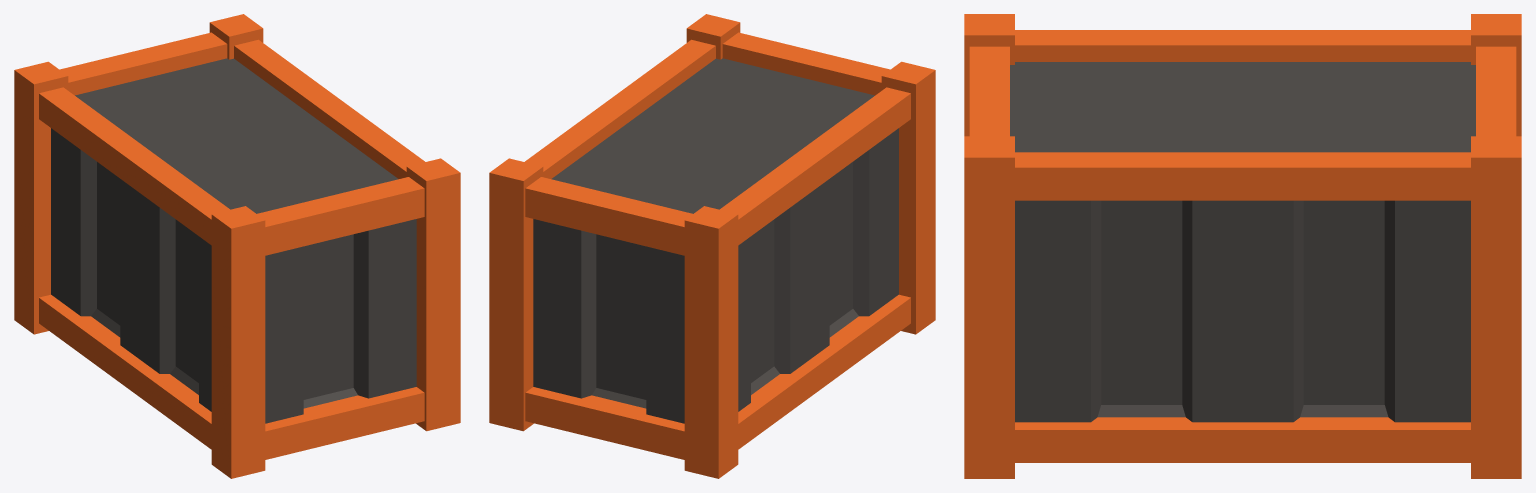
The model's file is Crate.fbx.
The picture shows the model from 3 angles, left to right: view 1: azimuth 30°, elevation 25°; view 2: azimuth 150°, elevation 25°; view 3: azimuth 270°, elevation 25°; orthographic projection. The views are drawn at different scales.
Visible parts, largest first — view 1: Cube; view 2: Cube; view 3: Cube.
Part boxes in pixels (bbox=[...]): Cube: bbox=[14, 14, 460, 478]; Cube: bbox=[489, 14, 935, 478]; Cube: bbox=[964, 14, 1521, 478].
Bounding box in the file's own units: 94 × 98 × 154.
